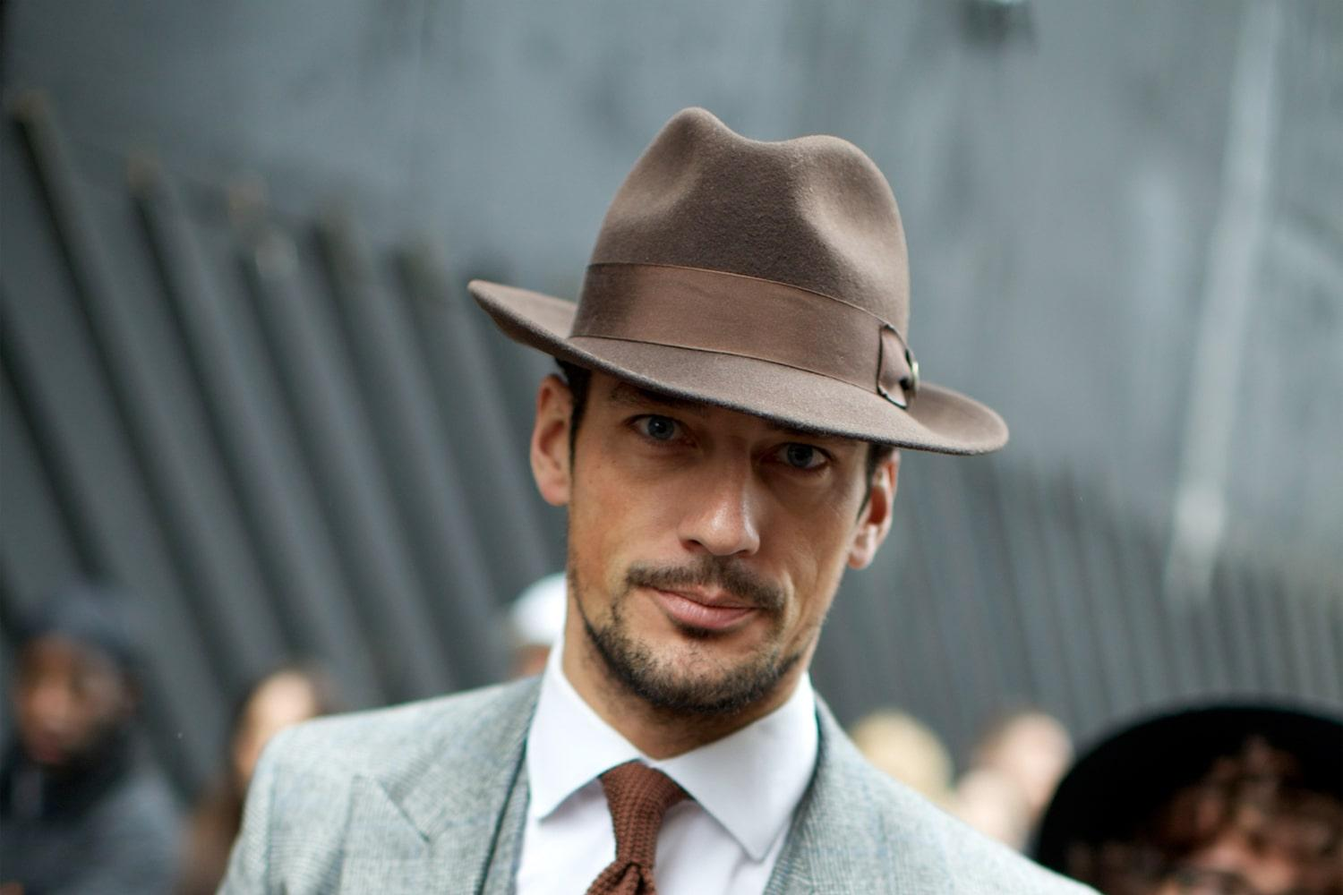cap: (459, 103, 1106, 479)
